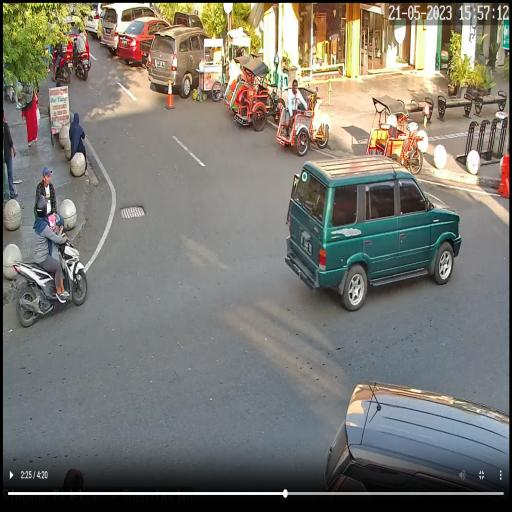mobil: (284, 156, 462, 309), (148, 23, 208, 104), (118, 11, 171, 70), (99, 2, 159, 54)
motor: (14, 213, 89, 336)
